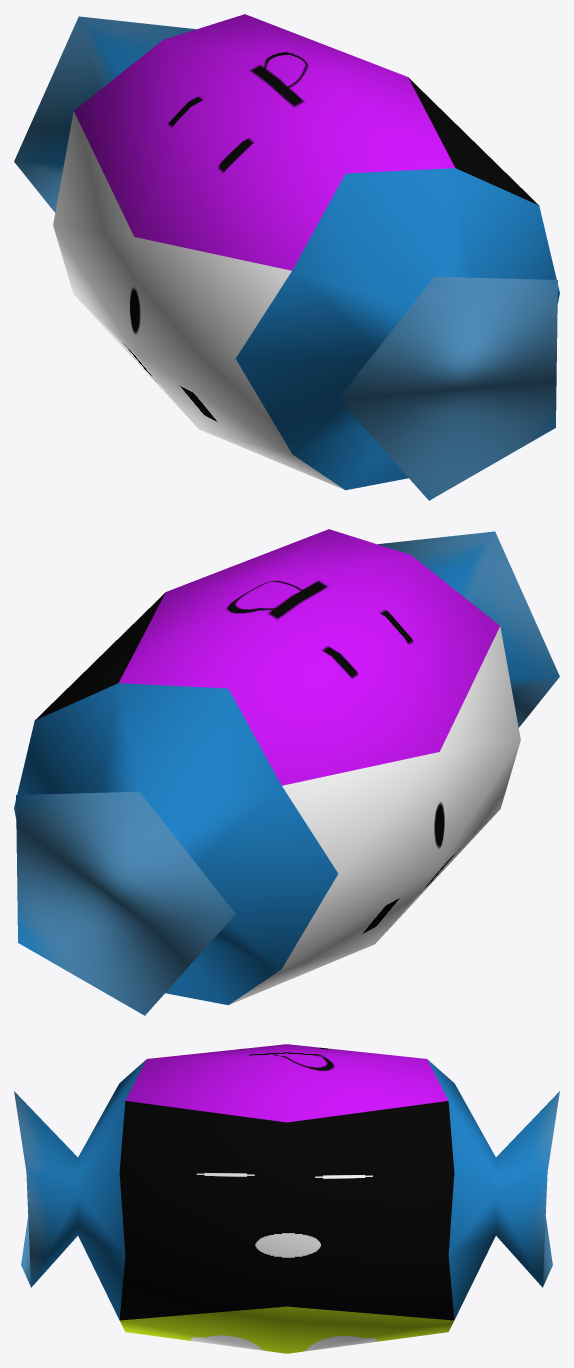
File: Toffee_enemy.fbx
3 views of the same model, one above another, from view 1: azimuth 30°, elevation 25°; view 2: azimuth 150°, elevation 25°; view 3: azimuth 270°, elevation 25° (orthographic). The views are drawn at different scales.
Parts seen in each view (by area): view 1: Toffee; view 2: Toffee; view 3: Toffee.
Boxes of the visible parts, x1,y1,x2,y2 form: Toffee: [14, 14, 559, 500]; Toffee: [14, 529, 559, 1015]; Toffee: [14, 1044, 559, 1353].
Size of the model in its own units: 1.9 by 2 by 3.46.
